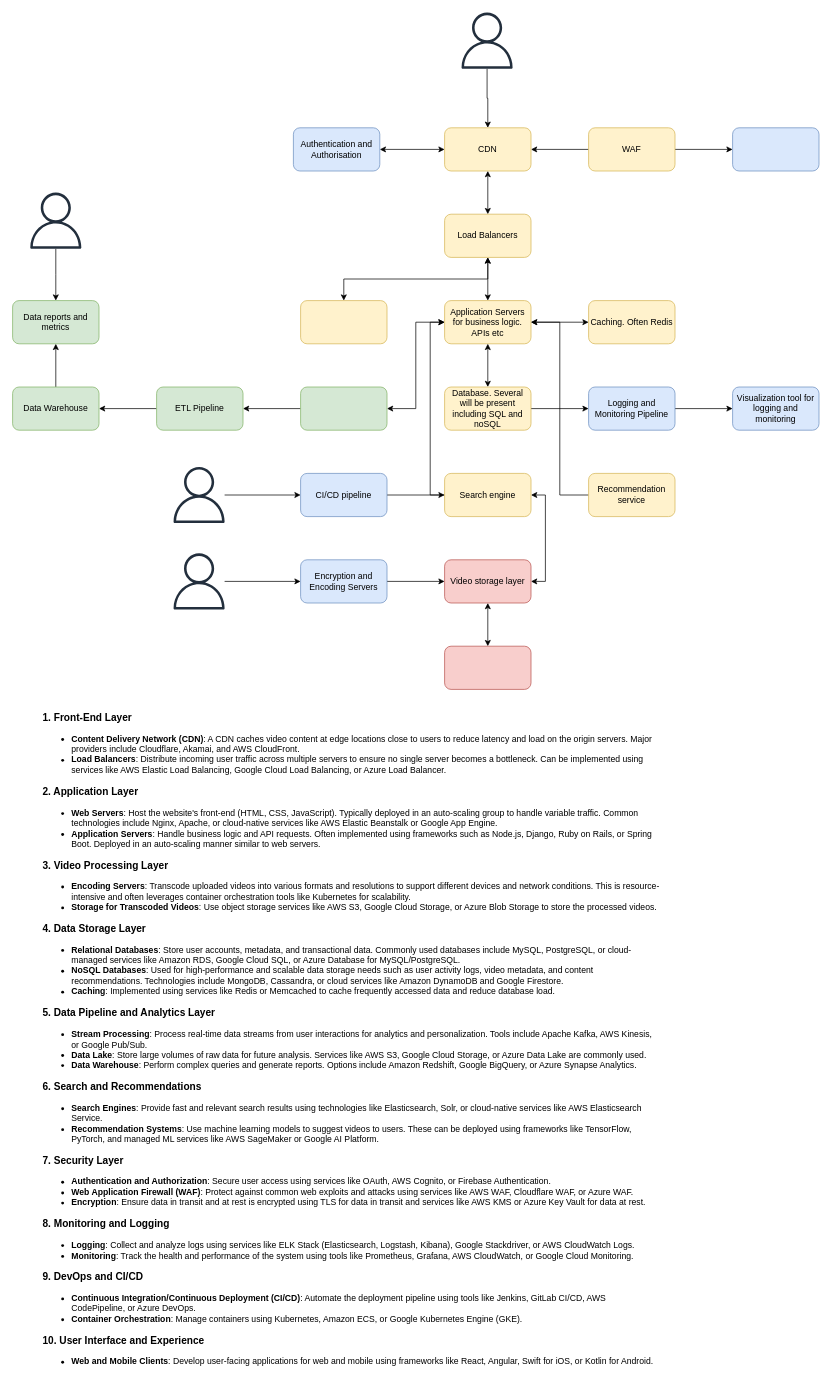
Some shapes in this 832 by 1387 pixel diagram are drawn without their labels. The centre of each missing label's shape, as x and y in pixels:
"Data analysts" belongs at (55,220).
"Data streaming" belongs at (343,408).
"Developers" belongs at (199,495).
"Security Tooling and Reporting" belongs at (775,149).
"Users - creators" belongs at (199,581).
"Users - viewers" belongs at (487,40).
"Video deep storage layer" belongs at (487,667).
"Web Servers for front end content" belongs at (343,322).
